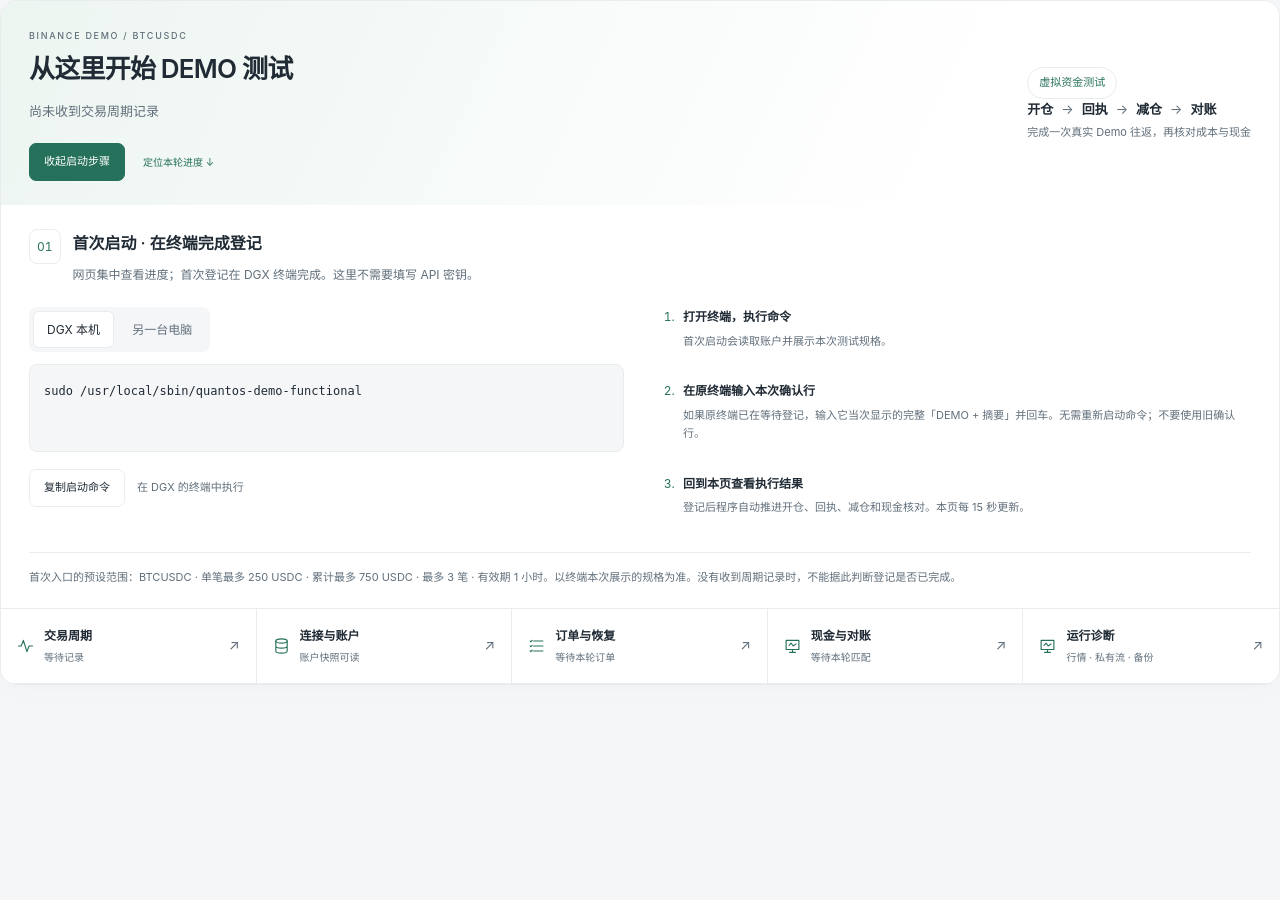
Test case: copies only the selected launch command, without issuing any request
Click the button "另一台电脑".
click(162, 330)  # box [118,311,206,348]
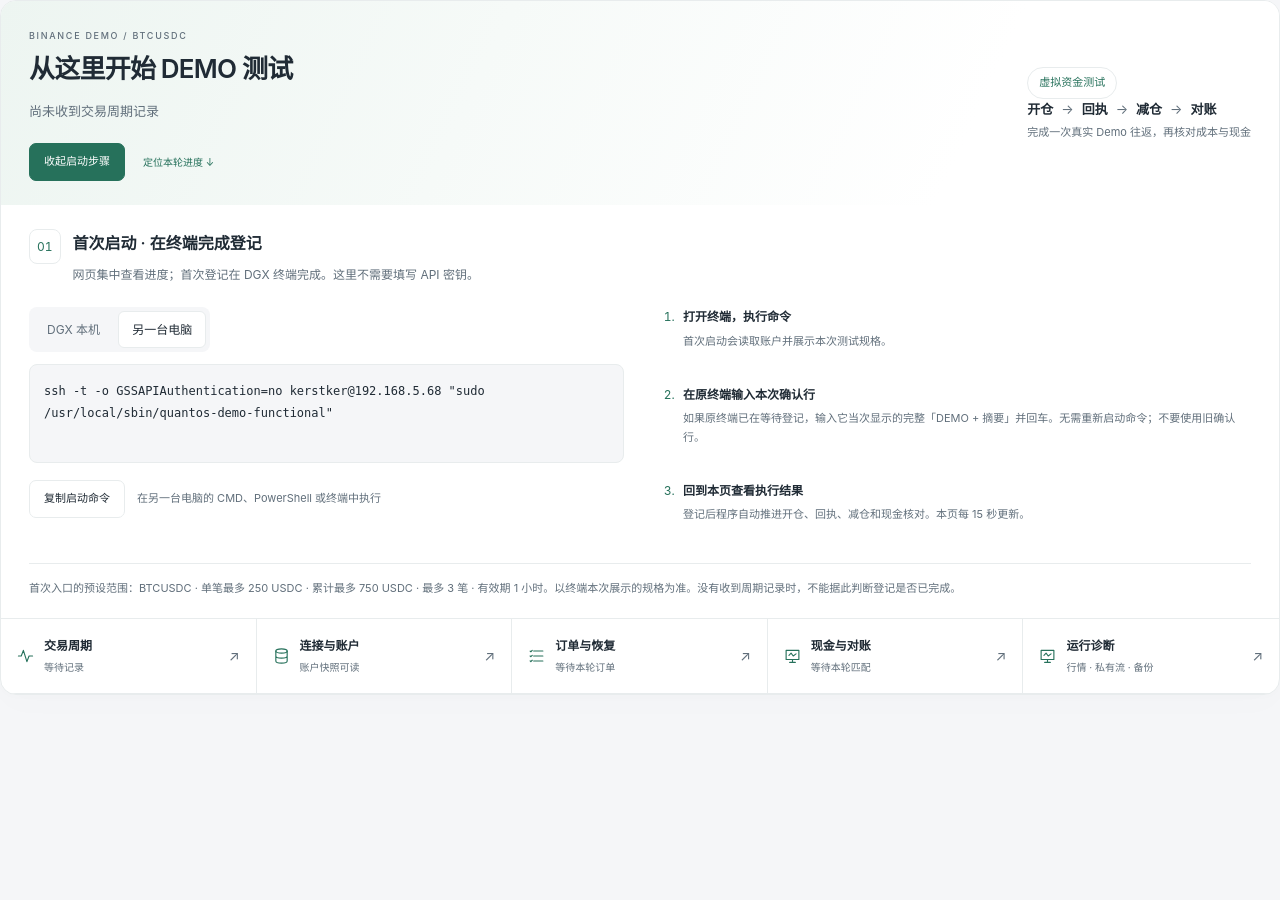
Expected: the text box named "另一台电脑启动命令" holds "ssh -t -o GSSAPIAuthentication=no kerstker@192.168.5.68 \"sudo /usr/local/sbin/quantos-demo-functional\"", [29,364,624,463]
Click the button "复制启动命令".
click(77, 498)  # box [29,480,125,518]
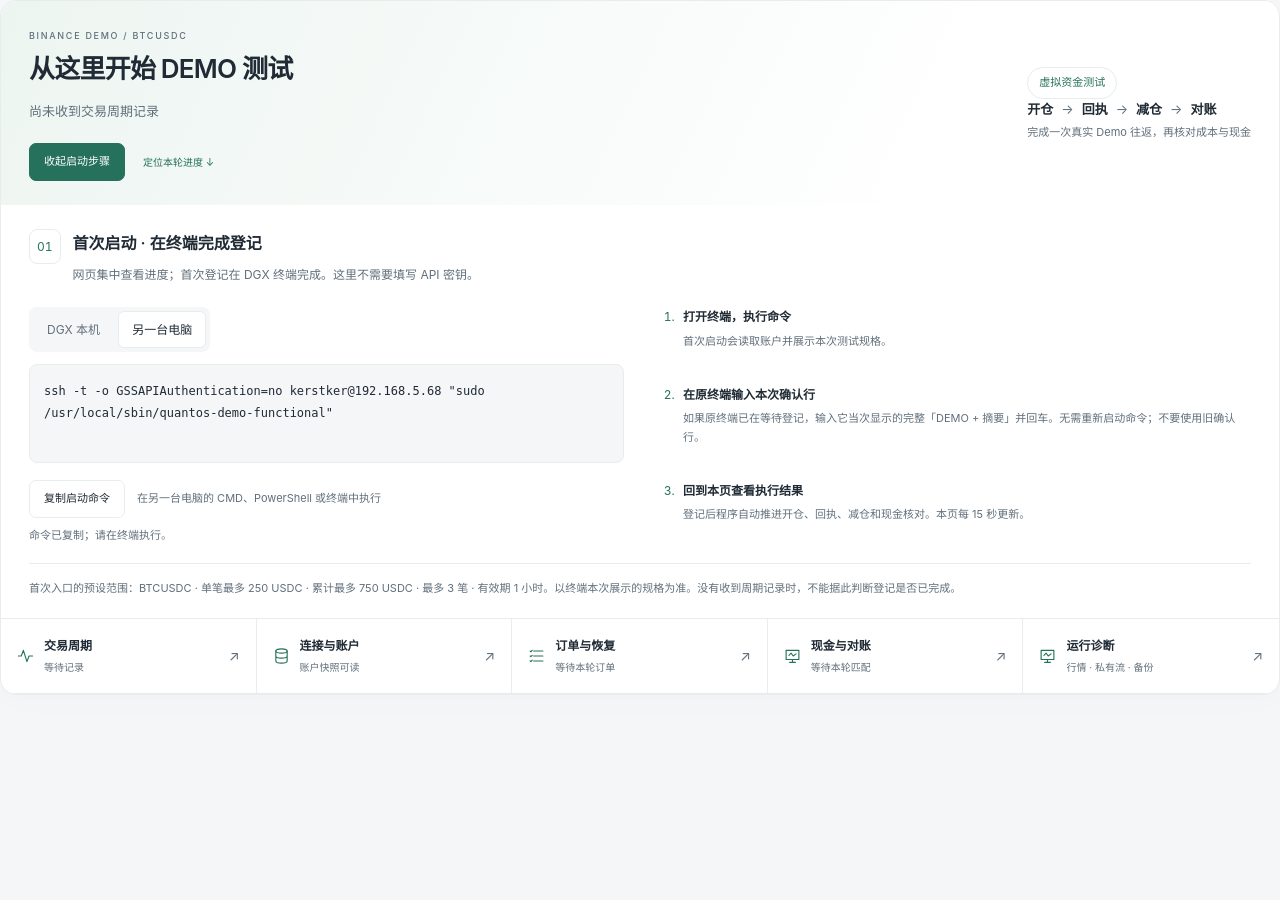
Expected: the message reads "命令已复制；请在终端执行。", [29,528,172,542]
